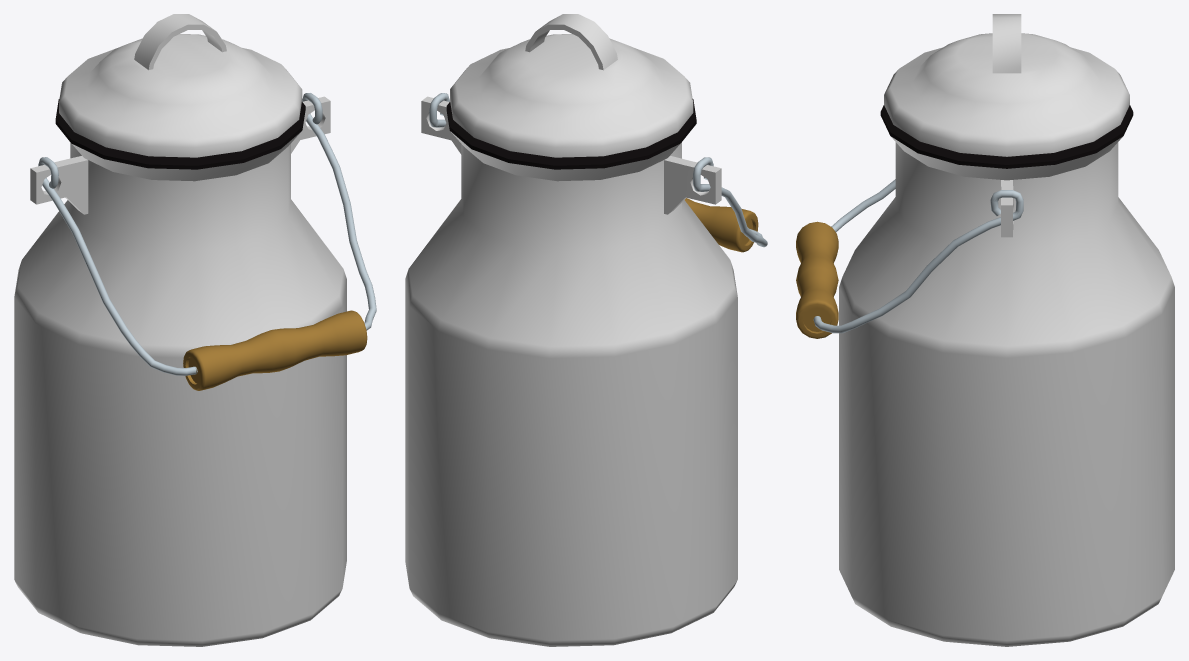
The model's file is realmilkbottle.glb.
3 views of the same model, side by side, from view 1: azimuth 30°, elevation 25°; view 2: azimuth 150°, elevation 25°; view 3: azimuth 270°, elevation 25° (orthographic).
Parts seen in each view (by area): view 1: Bidon, Krisshka, Ry4ka derevo, Zhelez skoba, Ry4ka bjkshaya, Cylinder; view 2: Bidon, Krisshka, Ry4ka bjkshaya, Cylinder, Ry4ka derevo, Zhelez skoba; view 3: Bidon, Krisshka, Ry4ka derevo, Zhelez skoba, Cylinder, Ry4ka bjkshaya.
Part boxes in pixels (left/top/right/bottom): Bidon: left=14, top=99, right=346, bottom=646; Krisshka: left=59, top=34, right=302, bottom=157; Ry4ka derevo: left=183, top=310, right=367, bottom=390; Zhelez skoba: left=38, top=93, right=376, bottom=375; Ry4ka bjkshaya: left=30, top=96, right=330, bottom=214; Cylinder: left=134, top=14, right=226, bottom=70; Bidon: left=405, top=99, right=737, bottom=646; Krisshka: left=450, top=34, right=693, bottom=157; Ry4ka bjkshaya: left=421, top=96, right=721, bottom=214; Cylinder: left=525, top=14, right=617, bottom=70; Ry4ka derevo: left=685, top=198, right=758, bottom=252; Zhelez skoba: left=429, top=93, right=767, bottom=247; Bidon: left=839, top=105, right=1174, bottom=646; Krisshka: left=884, top=33, right=1129, bottom=156; Ry4ka derevo: left=796, top=221, right=838, bottom=338; Zhelez skoba: left=813, top=179, right=1023, bottom=333; Cylinder: left=992, top=14, right=1021, bottom=73; Ry4ka bjkshaya: left=1001, top=180, right=1013, bottom=237.
Size of the model in its own units: 0.1533 by 0.28 by 0.1708.
